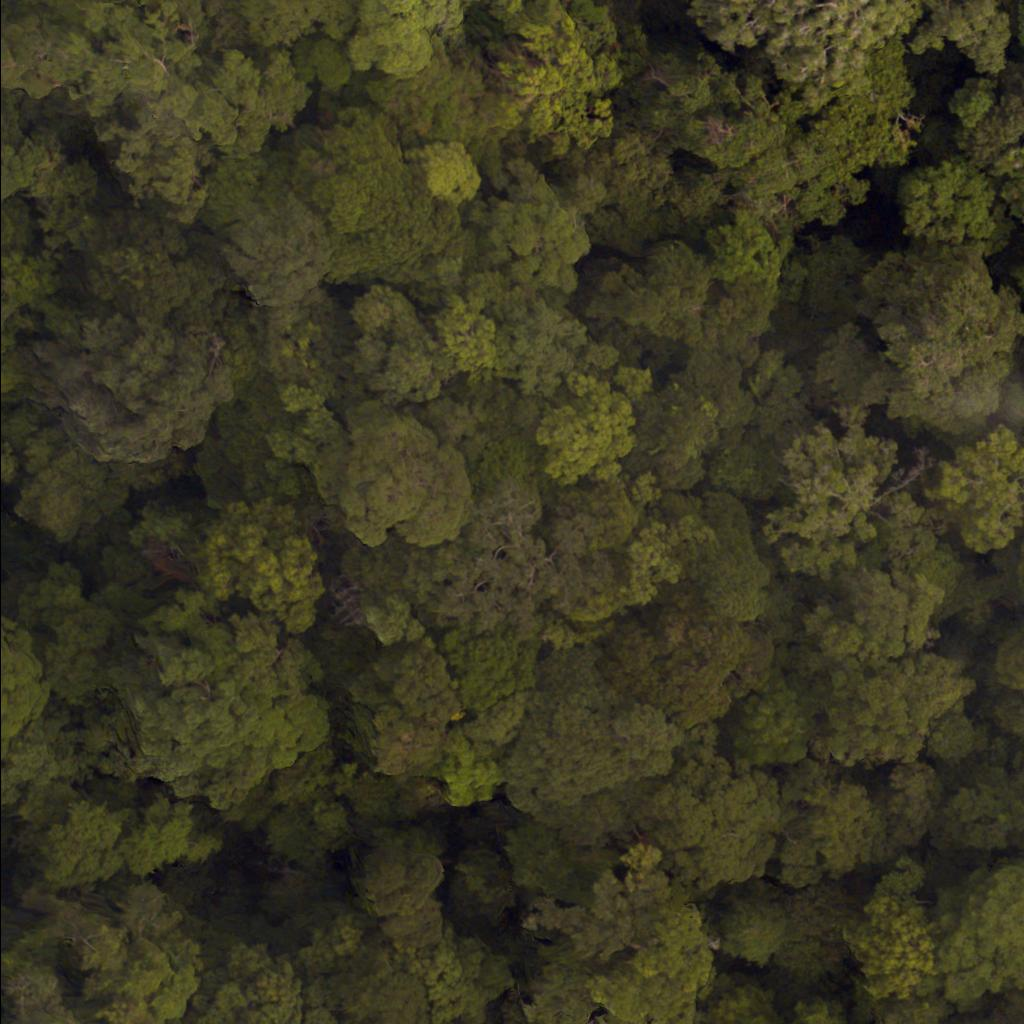crown: (0, 0, 294, 209), (503, 643, 683, 832), (632, 53, 815, 232), (36, 314, 231, 467), (778, 38, 909, 225), (586, 603, 785, 726), (546, 129, 726, 257), (464, 162, 607, 294), (365, 33, 509, 162), (495, 10, 631, 146), (677, 0, 916, 77), (590, 242, 710, 364), (932, 861, 1023, 1017), (342, 291, 461, 408), (293, 115, 408, 228), (81, 213, 196, 323), (936, 413, 1023, 558), (343, 0, 477, 77), (495, 283, 586, 396), (850, 888, 936, 1004), (236, 210, 336, 300), (903, 158, 996, 246), (990, 509, 1023, 742), (706, 206, 784, 299), (810, 329, 887, 423), (633, 385, 721, 466), (238, 0, 363, 52), (919, 0, 1014, 68), (795, 233, 870, 316), (964, 68, 1023, 153), (438, 294, 499, 372), (283, 40, 353, 91), (950, 80, 997, 119), (985, 1007, 1023, 1023), (1016, 391, 1023, 446), (1019, 269, 1023, 303)
